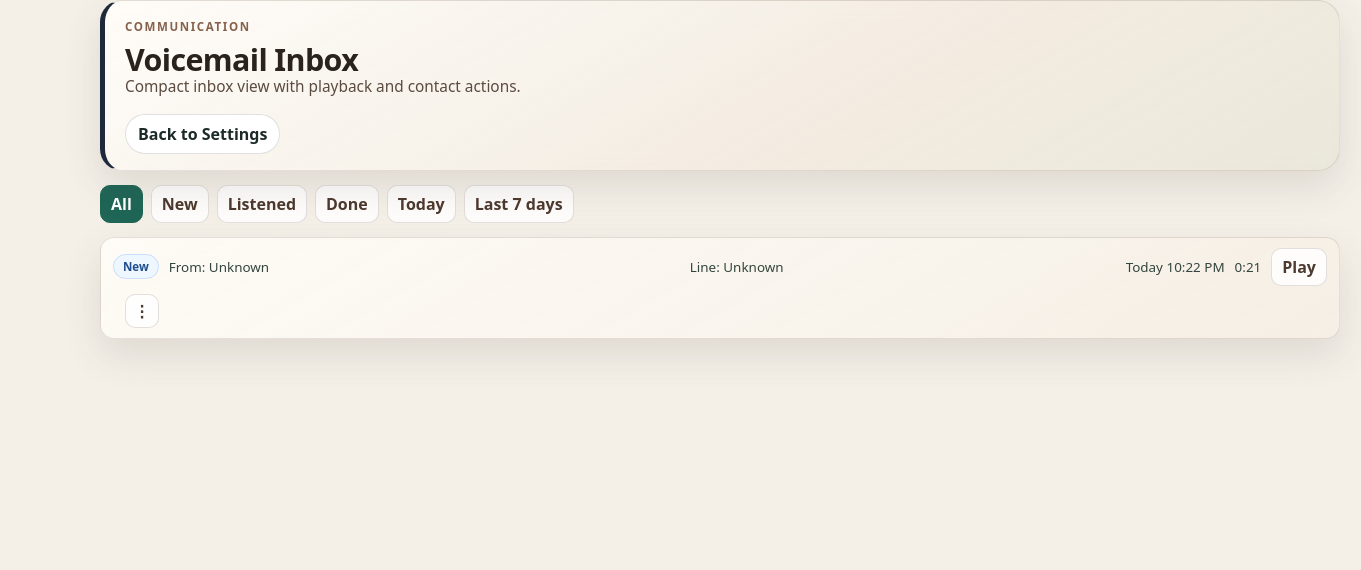
VoicemailPage › shows unknown fallbacks and disables copy caller number when missing
Expected: the text "From: Unknown" is shown, [169,258,269,276]
Expected: the text "Line: Unknown" is shown, [690,258,784,276]
Click the button named "More actions for voicemail 8".
click(142, 311)  # box [125,294,159,328]
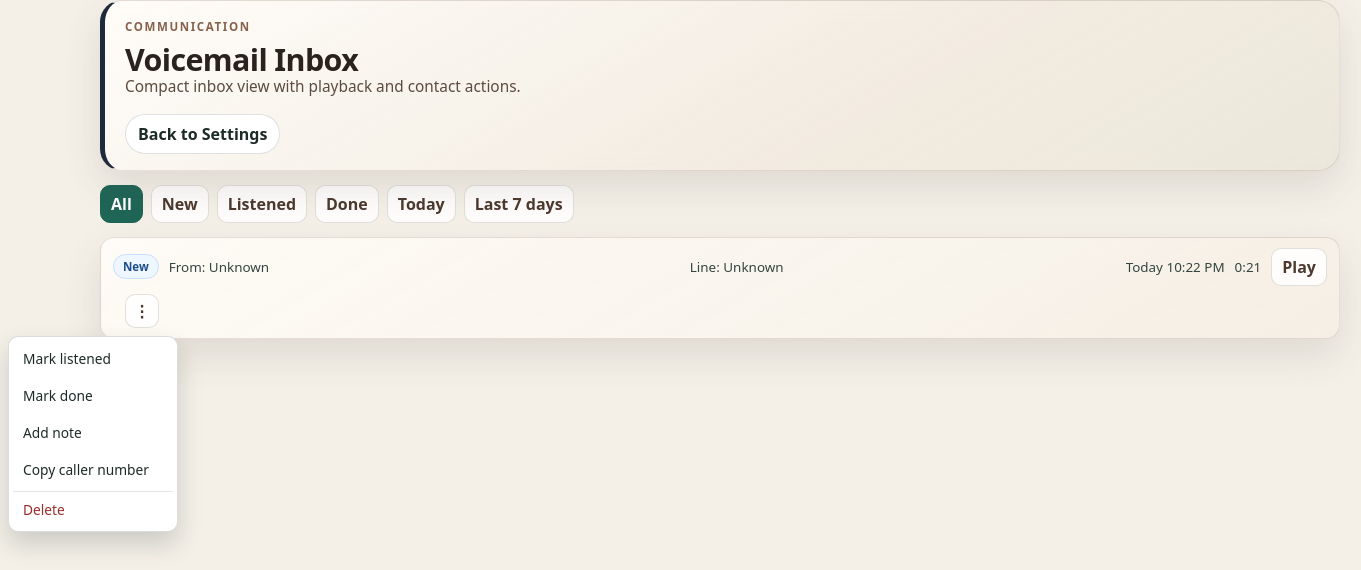
Now the menu item "Copy caller number" is disabled, box [13,452,173,487]
